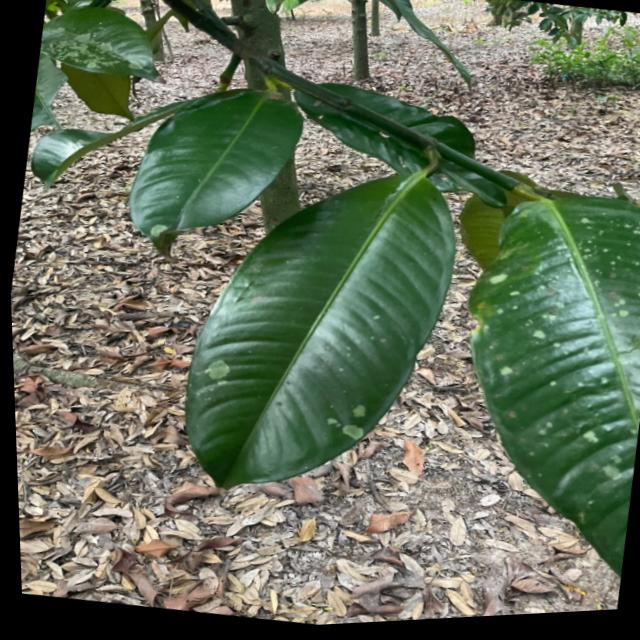Leaf Spot: (471, 193, 640, 503), (38, 8, 155, 76), (314, 390, 391, 467), (196, 353, 241, 392)
